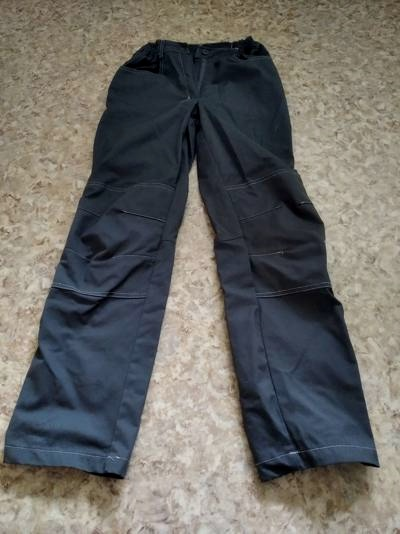Pants: (11, 30, 392, 500)
